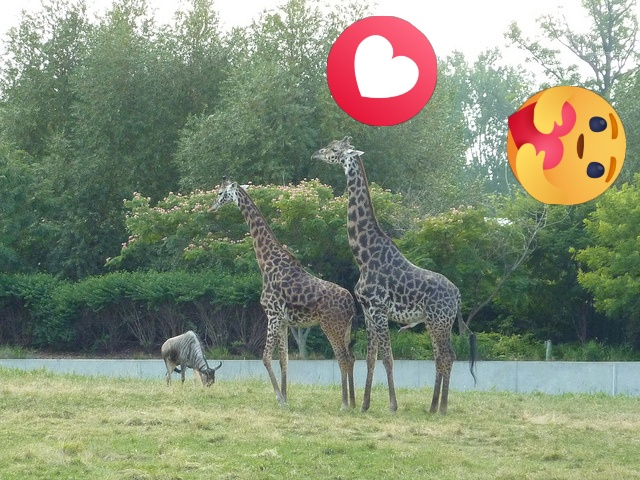care: (507, 86, 626, 205)
love: (327, 16, 437, 126)
